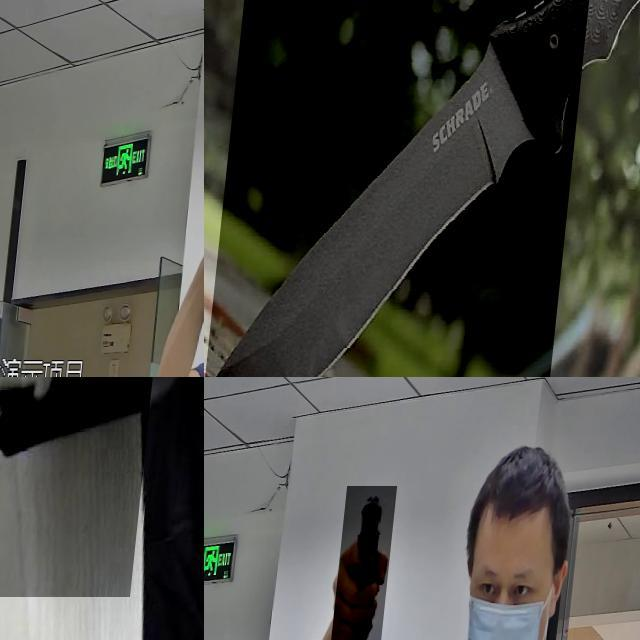-: (213, 0, 593, 377), (0, 377, 158, 597)
gun-knife-thesis - v11 Yolov5 augmented: (342, 486, 404, 640)
